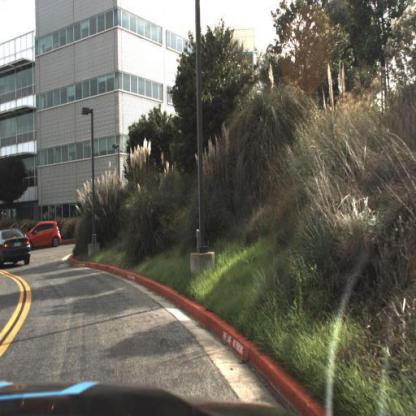car: (1, 227, 35, 269), (24, 220, 66, 252)
